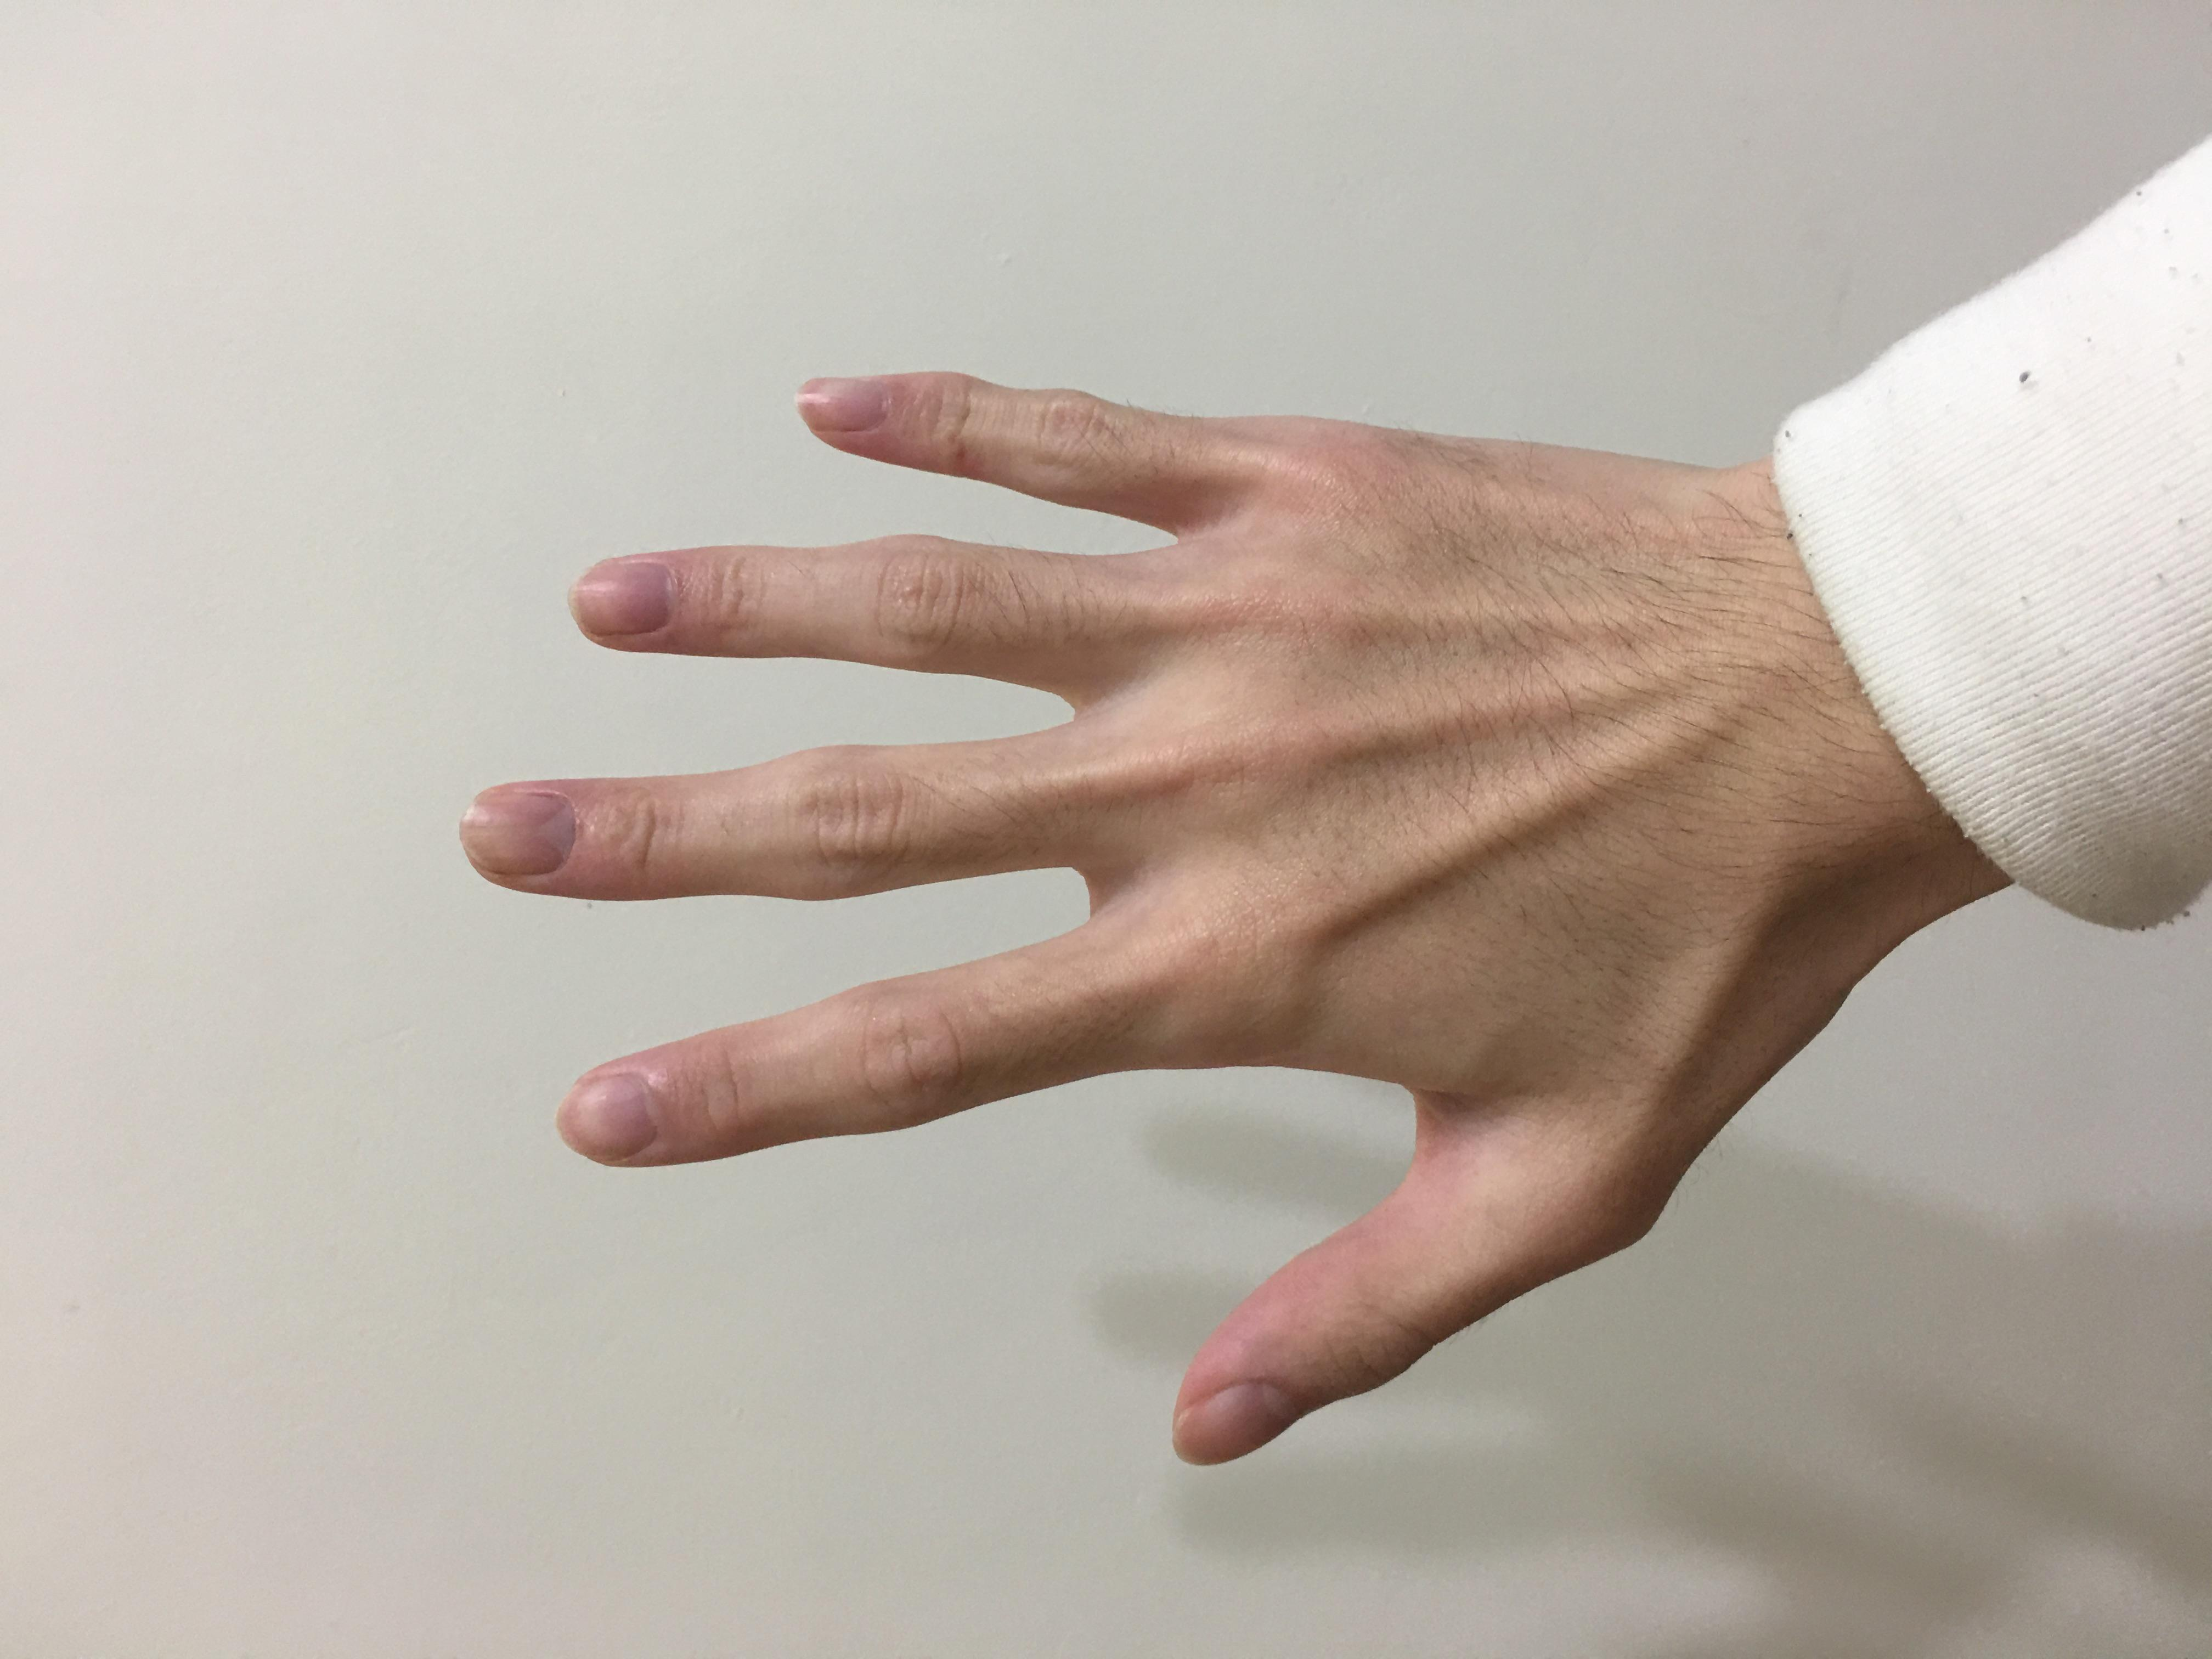hand: (255, 344, 1718, 1312)
